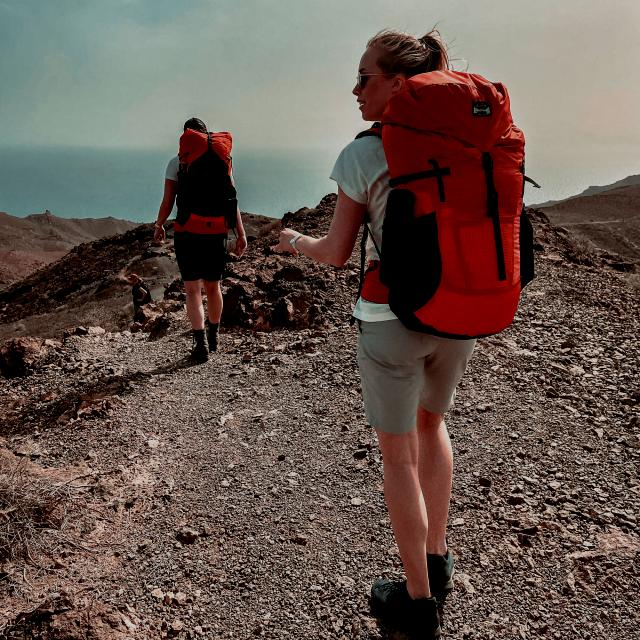backpack: (354, 70, 535, 340), (175, 131, 237, 235)
